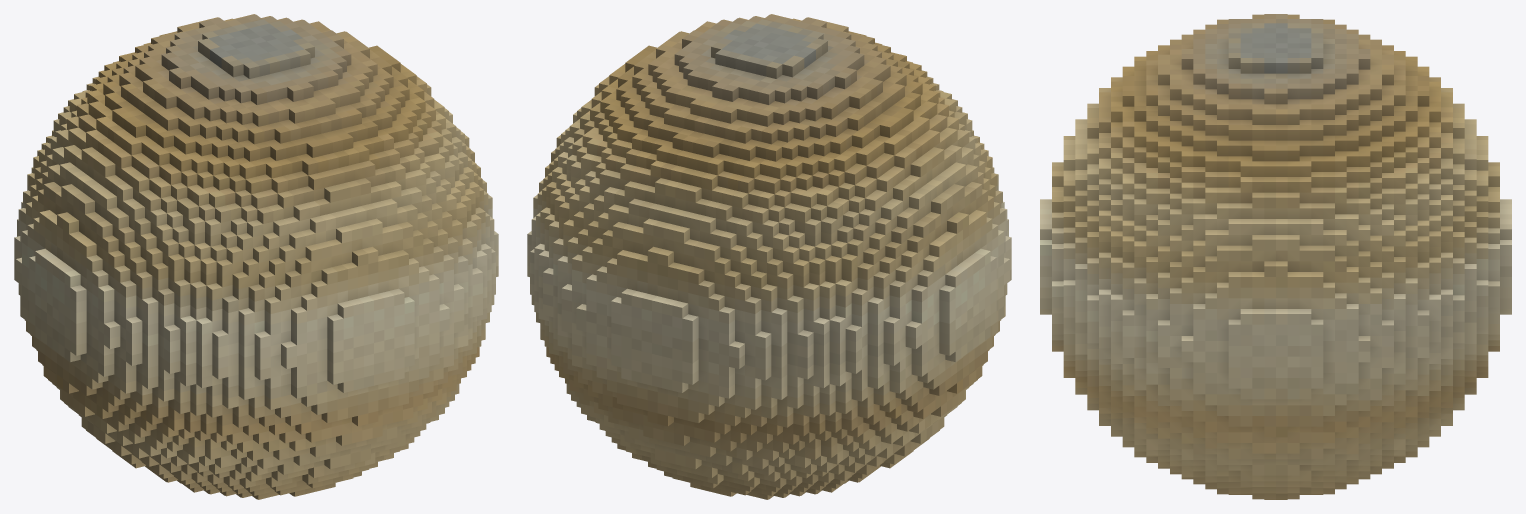
Rendered from saturn_lod1.glb.
The picture shows the model from 3 angles, left to right: view 1: azimuth 30°, elevation 25°; view 2: azimuth 150°, elevation 25°; view 3: azimuth 270°, elevation 25°; orthographic projection.
Visible parts, largest first — view 1: saturn_lod1; view 2: saturn_lod1; view 3: saturn_lod1.
Boxes of the visible parts, x1=… form: saturn_lod1: x1=14, y1=14, x2=498, y2=499; saturn_lod1: x1=527, y1=14, x2=1011, y2=499; saturn_lod1: x1=1040, y1=14, x2=1511, y2=499.
Bounding box in the file's own units: 2 × 2 × 2.
